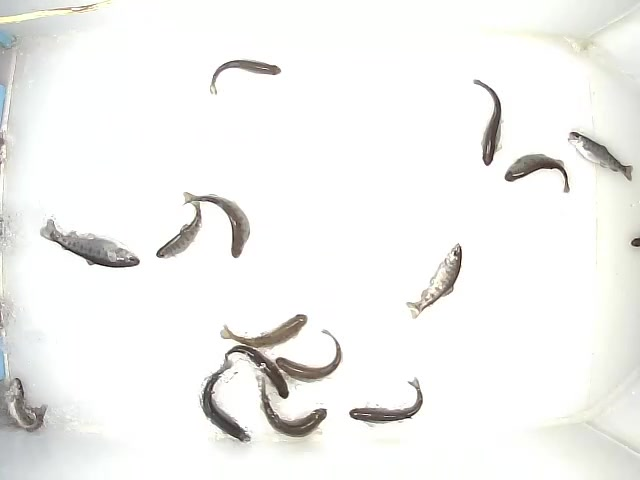fish: (39, 215, 143, 270), (181, 188, 253, 259), (256, 371, 329, 438), (404, 240, 464, 321), (198, 356, 252, 443), (347, 372, 423, 428), (220, 343, 292, 399), (274, 327, 343, 381), (218, 309, 311, 349), (568, 130, 633, 185), (470, 76, 506, 166), (503, 151, 572, 195), (155, 199, 205, 258), (206, 57, 281, 96), (5, 375, 50, 432)
